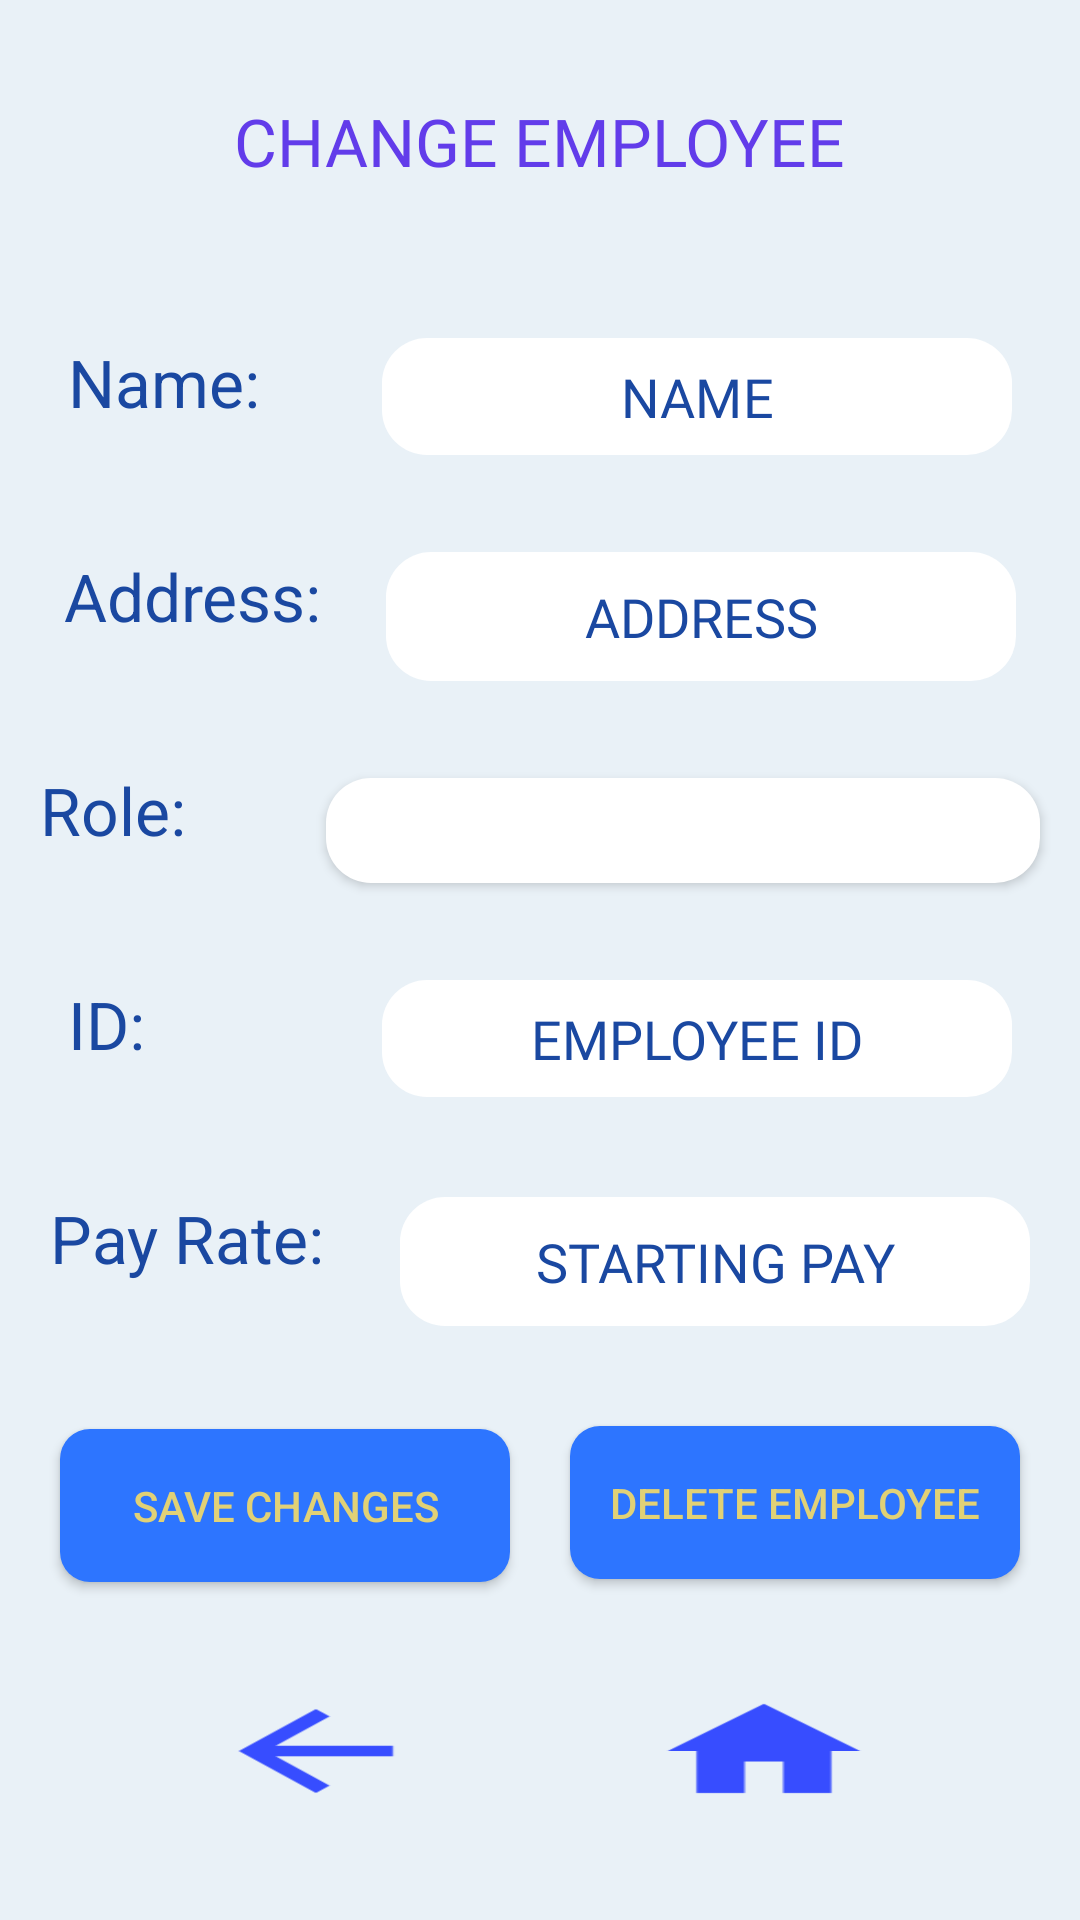

Where icons sit on this 1080 × 1920 app screen, as (x1, y1, x2, y2):
back: (239, 1709, 394, 1793)
home: (668, 1704, 860, 1793)
